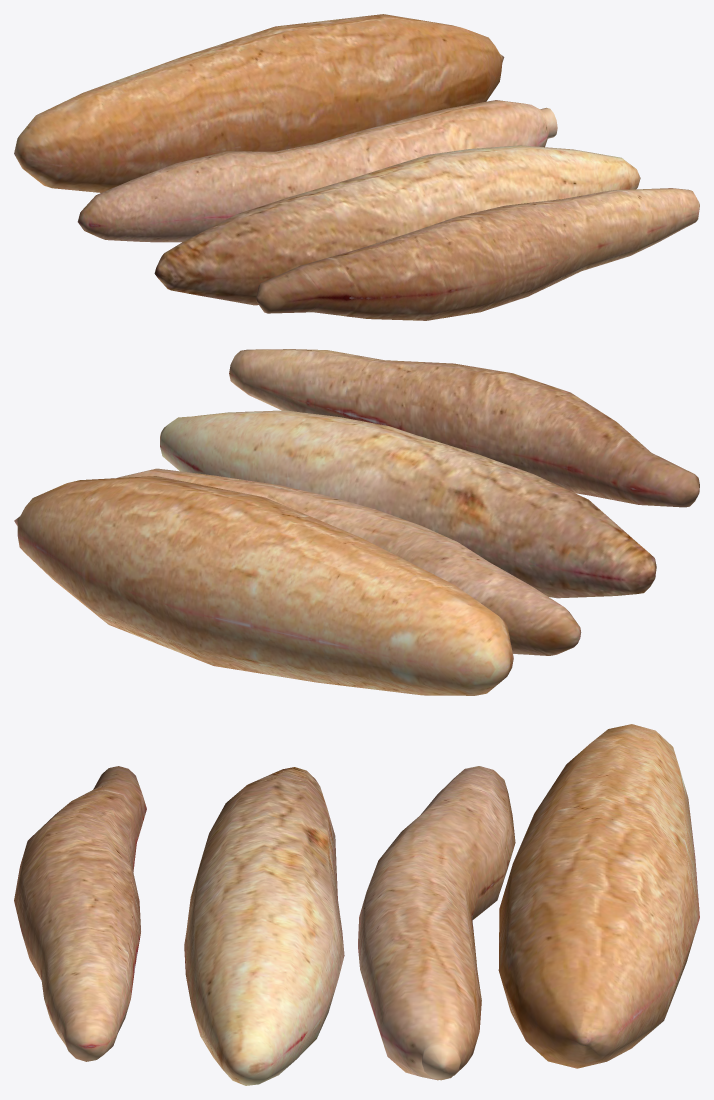
The model's file is maidong.FBX.
3 views of the same model, one above another, from view 1: azimuth 30°, elevation 25°; view 2: azimuth 150°, elevation 25°; view 3: azimuth 270°, elevation 25° (orthographic). The views are drawn at different scales.
Parts seen in each view (by area): view 1: Cylinder003, Cylinder002, Cylinder001, Cylinder004; view 2: Cylinder003, Cylinder001, Cylinder002, Cylinder004; view 3: Cylinder003, Cylinder001, Cylinder004, Cylinder002.
Boxes of the visible parts, left/top/right/bottom form: Cylinder003: left=14, top=14, right=504, bottom=192; Cylinder002: left=256, top=188, right=699, bottom=320; Cylinder001: left=154, top=145, right=640, bottom=305; Cylinder004: left=77, top=100, right=557, bottom=242; Cylinder003: left=14, top=476, right=513, bottom=695; Cylinder001: left=160, top=410, right=656, bottom=598; Cylinder002: left=229, top=349, right=699, bottom=507; Cylinder004: left=117, top=468, right=581, bottom=655; Cylinder003: left=498, top=724, right=699, bottom=1068; Cylinder001: left=184, top=767, right=344, bottom=1085; Cylinder004: left=358, top=766, right=515, bottom=1080; Cylinder002: left=14, top=766, right=146, bottom=1061.
Bounding box in the file's own units: 46 × 14.15 × 45.87.
1 material, 1 textured.
